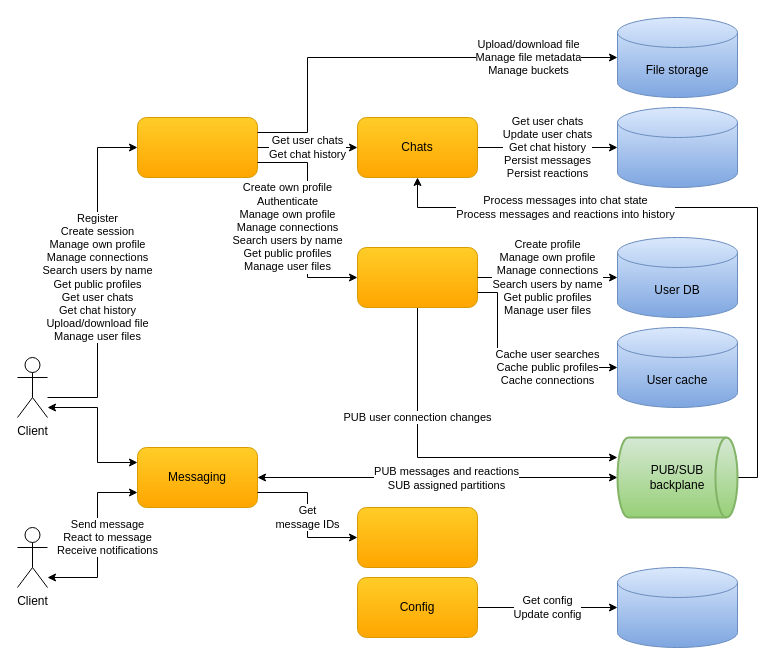
This 783x665 diagram has some shape labels left out. The box of each missing label's shape, as (x1, y1, x2, y2) in pixels:
Backend For Frontend: (136, 116, 258, 178)
Chats DB: (616, 106, 738, 188)
Config DB: (616, 566, 738, 648)
ID Gen: (356, 506, 478, 568)
User: (356, 246, 478, 308)
